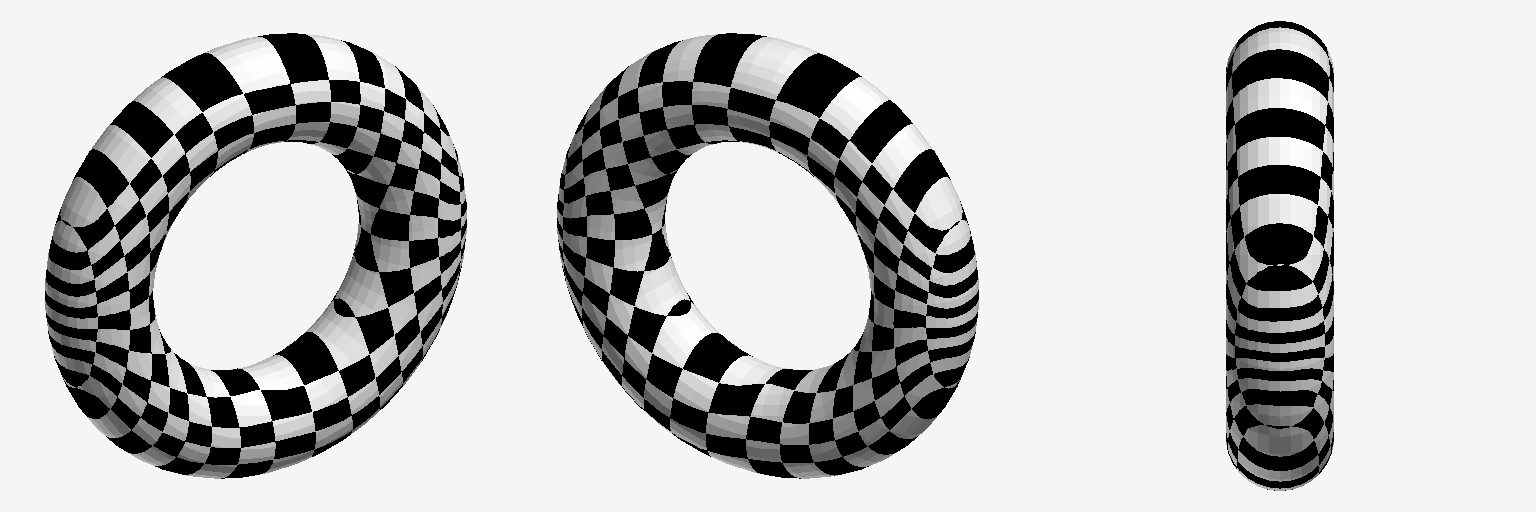
3 renders of one model, left to right at view 1: azimuth 30°, elevation 25°; view 2: azimuth 150°, elevation 25°; view 3: azimuth 270°, elevation 25°, orthographic.
Size of the model in its own units: 2.59 by 2.6 by 0.5967.
Materials: 1 (1 with a texture image).